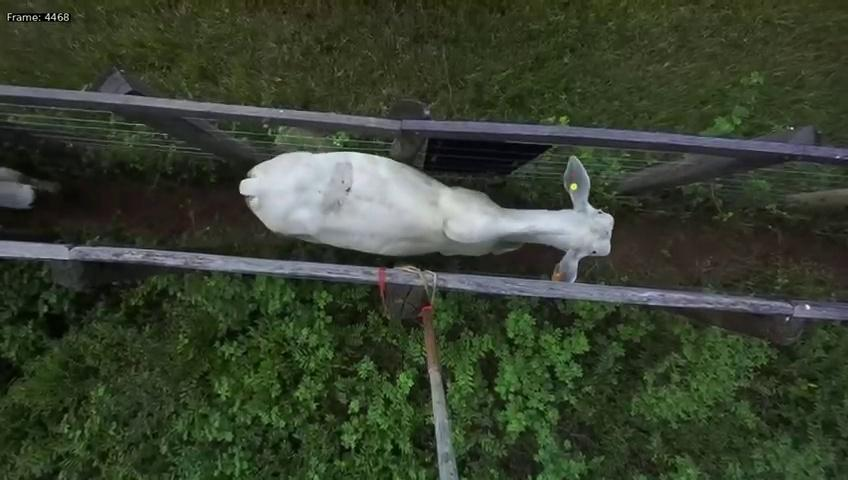cattle: (235, 147, 615, 284)
